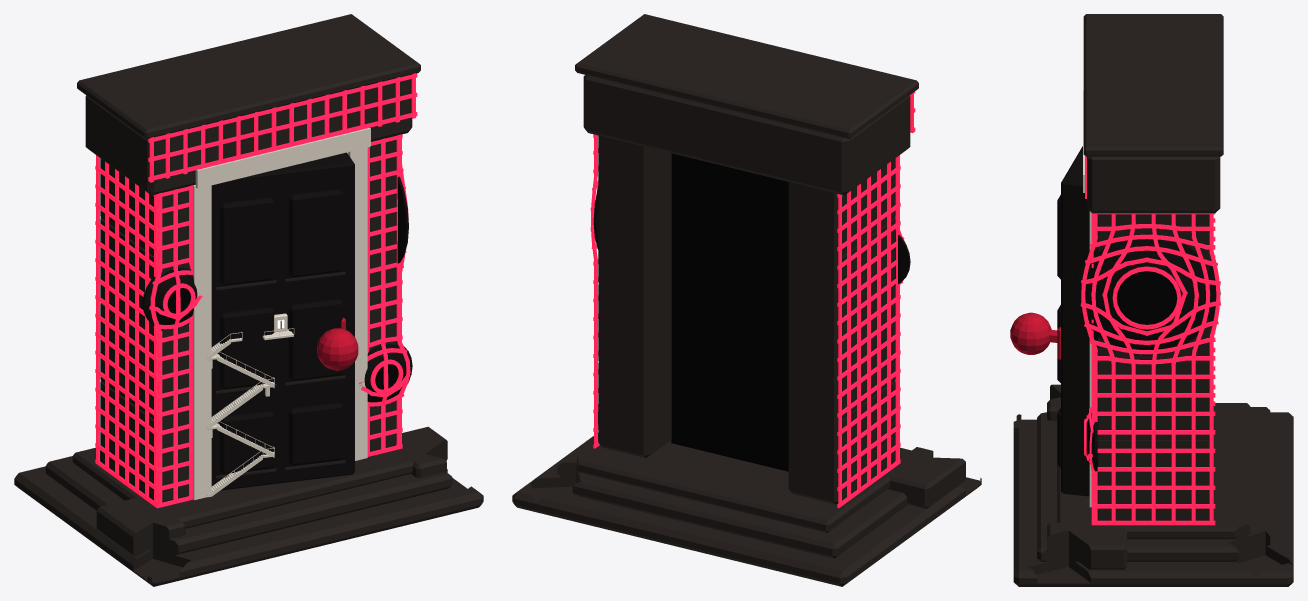
The model's file is door_grid.glb.
3 views of the same model, side by side, from view 1: azimuth 30°, elevation 25°; view 2: azimuth 150°, elevation 25°; view 3: azimuth 270°, elevation 25° (orthographic).
Visible parts, largest first — view 1: door_grid; view 2: door_grid; view 3: door_grid.
Boxes of the visible parts, left/top/right/bottom form: door_grid: left=14, top=14, right=483, bottom=586; door_grid: left=512, top=14, right=981, bottom=586; door_grid: left=1010, top=14, right=1293, bottom=586.
Size of the model in its own units: 58 by 70.6 by 42.51.
